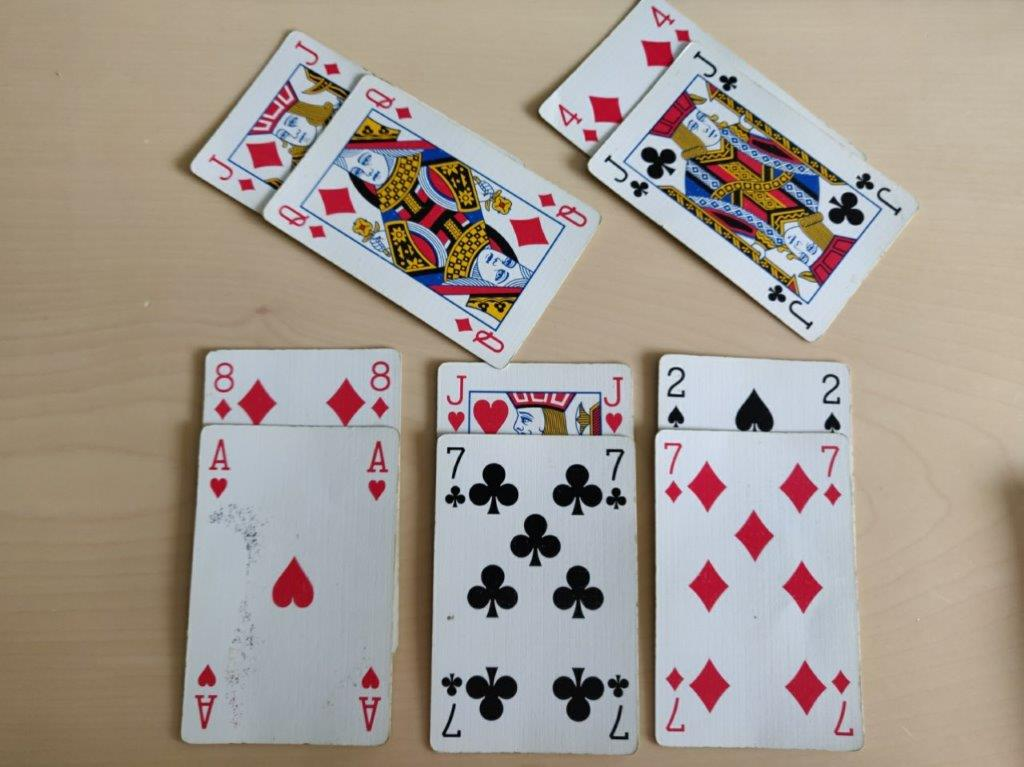2S: (663, 359, 693, 433), (817, 366, 847, 440)
4D: (549, 100, 606, 150), (639, 1, 696, 50)
7C: (439, 440, 470, 513), (600, 443, 631, 516)
7D: (660, 438, 687, 511), (818, 443, 845, 516)
8D: (207, 351, 239, 421), (366, 358, 398, 428)
AH: (205, 430, 232, 512), (364, 432, 391, 514)
JC: (596, 154, 658, 205), (685, 50, 742, 98)
JD: (202, 152, 265, 194), (285, 39, 348, 81)
JH: (600, 375, 628, 440), (442, 367, 470, 432)
QD: (270, 202, 334, 242), (354, 84, 418, 124)
